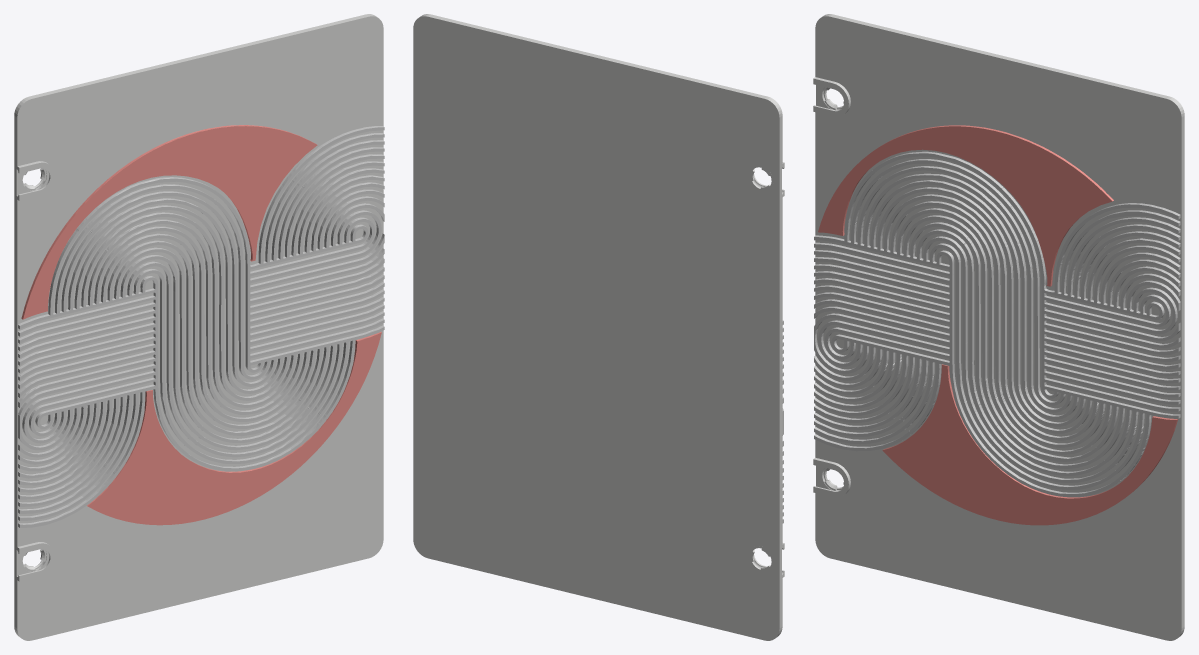
The model's file is a5_only_cover_v2.glb.
The picture shows the model from 3 angles, left to right: view 1: azimuth 30°, elevation 25°; view 2: azimuth 150°, elevation 25°; view 3: azimuth 330°, elevation 25°; orthographic projection.
Parts seen in each view (by area): view 1: Body1 (1), Body4 (1), Body3 (1), Body2 (1); view 2: Body1 (1); view 3: Body1 (1), Body4 (1), Body3 (1), Body2 (1).
Boxes of the visible parts, x1,y1,x2,y2 form: Body1 (1): (14,14,383,640); Body4 (1): (18,126,384,527); Body3 (1): (87,332,381,525); Body2 (1): (21,125,317,319); Body1 (1): (413,14,784,640); Body1 (1): (813,14,1184,640); Body4 (1): (814,151,1180,497); Body3 (1): (882,364,1178,525); Body2 (1): (818,125,1113,286).
Size of the model in its own units: 0.15 by 0.212 by 0.00369.
